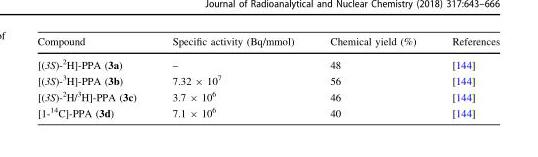table: (36, 36, 499, 118)
table column: (153, 36, 311, 118), (311, 36, 433, 118), (36, 36, 153, 118), (433, 36, 499, 118)
table column header: (36, 36, 499, 52)
table row: (36, 52, 499, 72), (36, 36, 499, 52), (36, 72, 499, 88), (36, 88, 499, 104), (36, 104, 499, 118)
